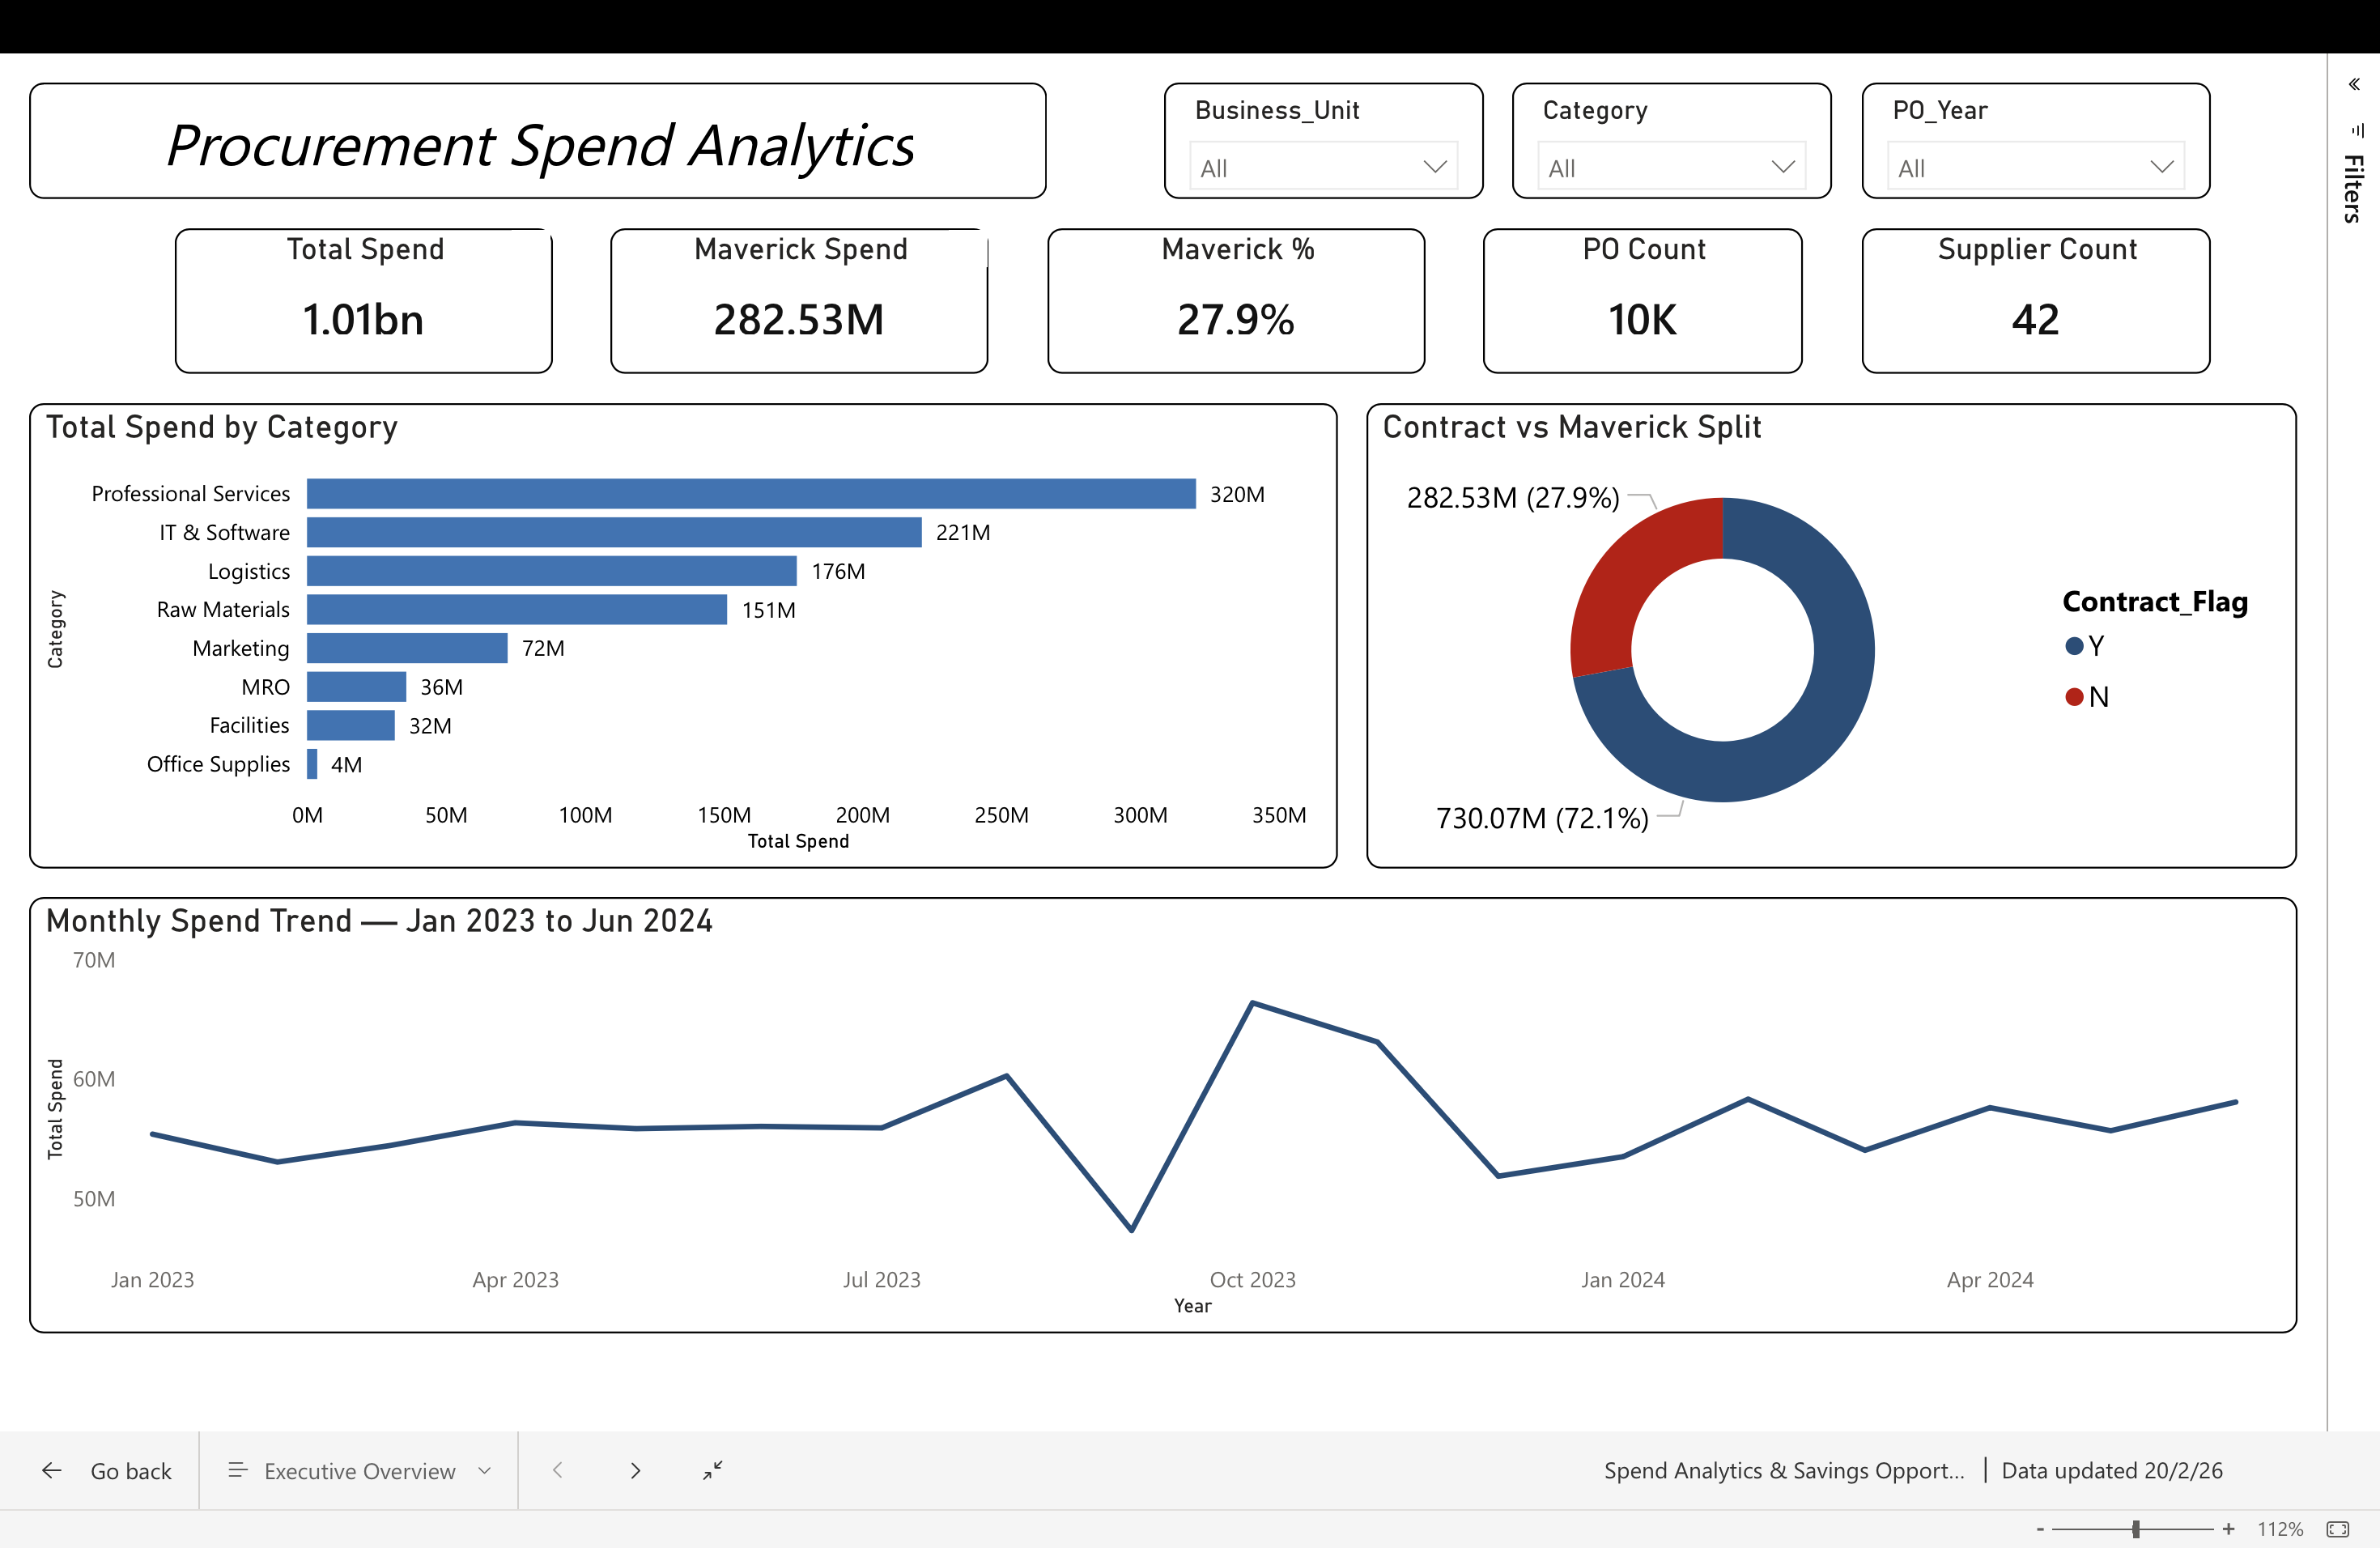

This screenshot's page, from the dashboard's own definition file:
{"tool":"powerbi","page":{"name":"Executive Overview","canvas":[1280,720],"ordinal":0},"visuals":[{"type":"cardVisual","title":"Total Spend","fields":{"Data":["dashboard_main.Total Spend"]},"box":[96,96,208,80],"z":0},{"type":"shape","box":[16,16,560,64],"z":1000},{"type":"slicer","fields":{"Values":["dashboard_main.PO_Year"]},"box":[1024,16,192,64],"z":2000},{"type":"slicer","fields":{"Values":["dashboard_main.Business_Unit"]},"box":[640,16,176,64],"z":3000},{"type":"slicer","fields":{"Values":["dashboard_main.Category"]},"box":[832,16,176,64],"z":4000},{"type":"cardVisual","title":"Maverick Spend","fields":{"Data":["dashboard_main.Maverick Spend"]},"box":[336,96,208,80],"z":5000},{"type":"cardVisual","title":"Maverick %","fields":{"Data":["dashboard_main.Maverick %"]},"box":[576,96,208,80],"z":6000},{"type":"cardVisual","title":"PO Count","fields":{"Data":["dashboard_main.PO Count"]},"box":[816,96,176,80],"z":7000},{"type":"clusteredBarChart","title":"Total Spend by Category","fields":{"Y":["dashboard_main.Total Spend"],"Category":["dashboard_main.Category"]},"box":[16,192,720,256],"z":8000},{"type":"lineChart","title":"Monthly Spend Trend — Jan 2023 to Jun 2024","fields":{"Y":["dashboard_main.Total Spend"],"Category":["dashboard_main.PO_Date.Variation.Date Hierarchy.Year","dashboard_main.PO_Date.Variation.Date Hierarchy.Month"]},"box":[16,464,1248,240],"z":9000},{"type":"donutChart","title":"Contract vs Maverick Split","fields":{"Category":["dashboard_main.Contract_Flag"],"Y":["dashboard_main.Total Spend"]},"box":[752,192,512,256],"z":10000},{"type":"cardVisual","title":"Supplier Count","fields":{"Data":["Count(dashboard_main.Supplier_Name)"]},"box":[1024,96,192,80],"z":11000}]}

Visuals, with their boxes on the page's 1280x720 design canvas (x1, y1, x2, y2). These are canvas units, not pixel positions in the 2380x1548 screenshot, which may show the page scaled, cropped or inside an application window:
"Total Spend" cardVisual: (left=96, top=96, right=304, bottom=176)
shape: (left=16, top=16, right=576, bottom=80)
slicer - dashboard_main.PO_Year: (left=1024, top=16, right=1216, bottom=80)
slicer - dashboard_main.Business_Unit: (left=640, top=16, right=816, bottom=80)
slicer - dashboard_main.Category: (left=832, top=16, right=1008, bottom=80)
"Maverick Spend" cardVisual: (left=336, top=96, right=544, bottom=176)
"Maverick %" cardVisual: (left=576, top=96, right=784, bottom=176)
"PO Count" cardVisual: (left=816, top=96, right=992, bottom=176)
"Total Spend by Category" clusteredBarChart: (left=16, top=192, right=736, bottom=448)
"Monthly Spend Trend — Jan 2023 to Jun 2024" lineChart: (left=16, top=464, right=1264, bottom=704)
"Contract vs Maverick Split" donutChart: (left=752, top=192, right=1264, bottom=448)
"Supplier Count" cardVisual: (left=1024, top=96, right=1216, bottom=176)
